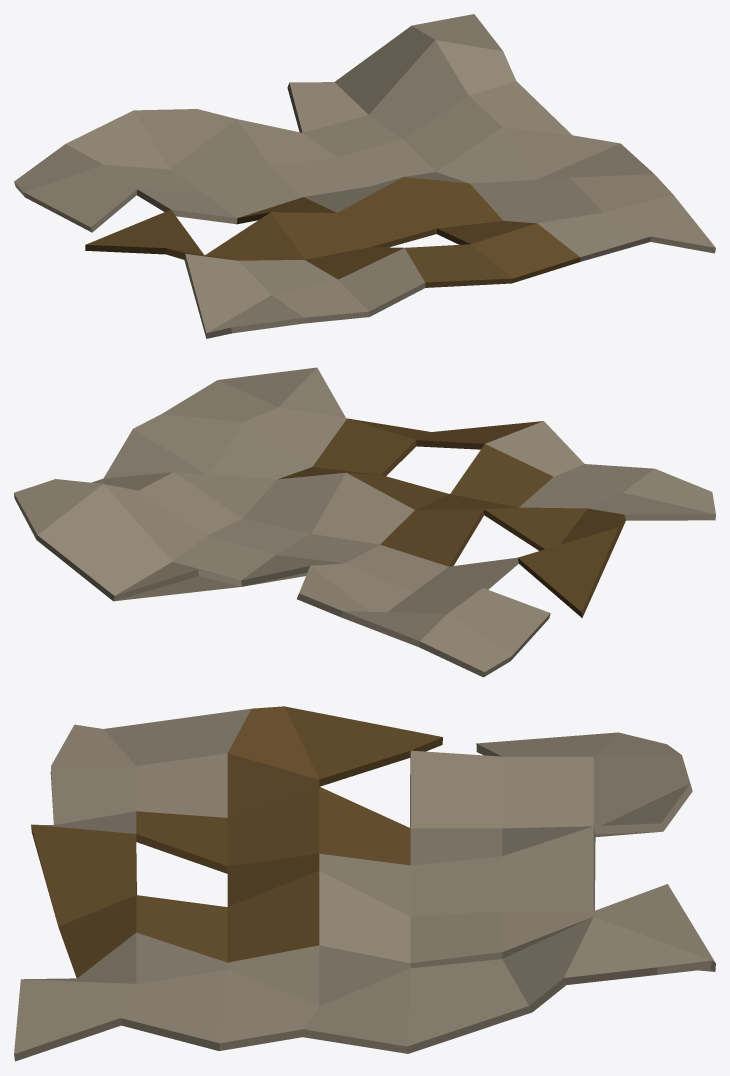
The model's file is trapo.glb.
The picture shows the model from 3 angles, top to bottom: view 1: azimuth 30°, elevation 25°; view 2: azimuth 150°, elevation 25°; view 3: azimuth 270°, elevation 25°; orthographic projection. The views are drawn at different scales.
Parts seen in each view (by area): view 1: Trapo; view 2: Trapo; view 3: Trapo.
Boxes of the visible parts, x1,y1,x2,y2 form: Trapo: (14, 14, 715, 338); Trapo: (14, 367, 715, 677); Trapo: (14, 706, 715, 1061).
Bounding box in the file's own units: 0.2645 × 0.0381 × 0.2411.
